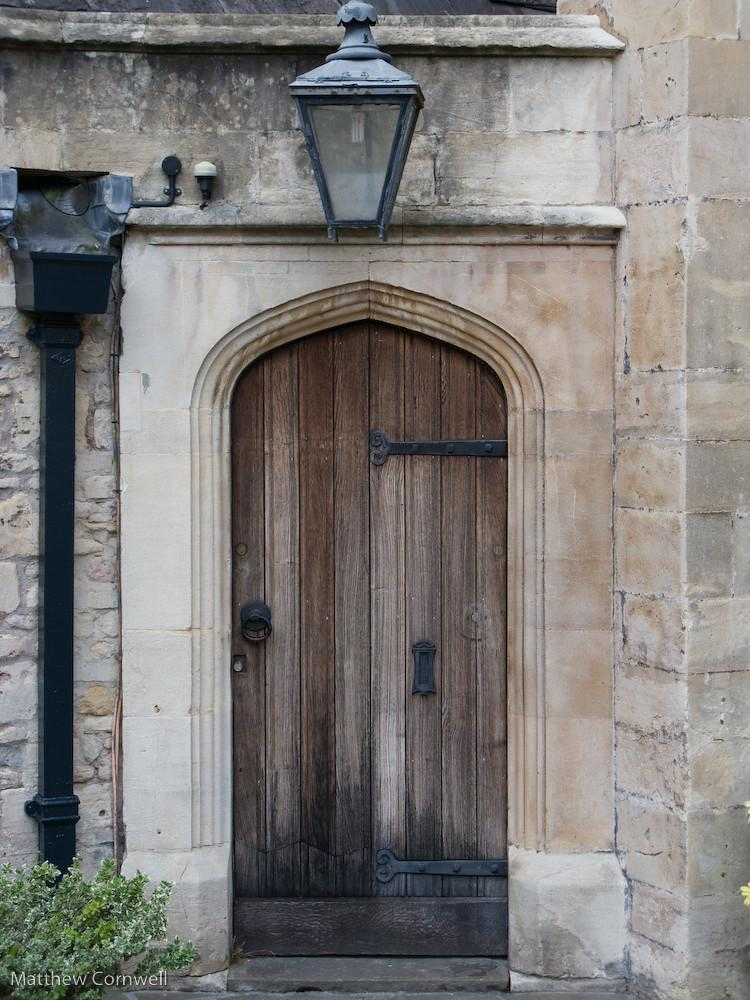door: (229, 318, 511, 957)
